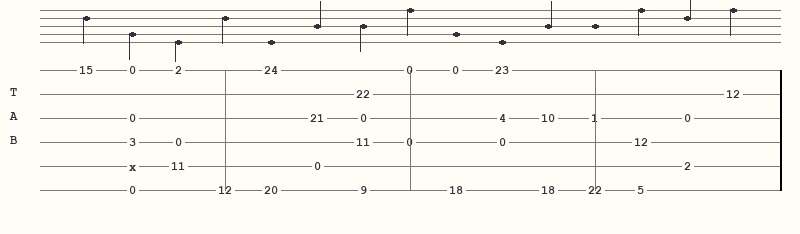0: (129, 64, 140, 76), (129, 184, 140, 196), (129, 112, 140, 124), (175, 136, 186, 148), (314, 160, 325, 172), (360, 112, 371, 124), (406, 136, 417, 148), (406, 64, 417, 76), (452, 64, 463, 76), (499, 136, 510, 148), (684, 112, 695, 124)
1: (591, 112, 602, 124)
10: (541, 112, 559, 124)
11: (171, 160, 189, 172), (356, 136, 374, 148)
12: (218, 184, 236, 196), (634, 136, 652, 148), (726, 88, 744, 100)
15: (79, 64, 97, 76)
18: (449, 184, 467, 196), (541, 184, 559, 196)
2: (175, 64, 186, 76), (684, 160, 695, 172)
20: (264, 184, 282, 196)
21: (310, 112, 328, 124)
22: (356, 88, 374, 100), (588, 184, 606, 196)
23: (495, 64, 513, 76)
24: (264, 64, 282, 76)
3: (129, 136, 140, 148)
4: (499, 112, 510, 124)
5: (637, 184, 648, 196)
9: (360, 184, 371, 196)
x: (129, 161, 140, 171)
